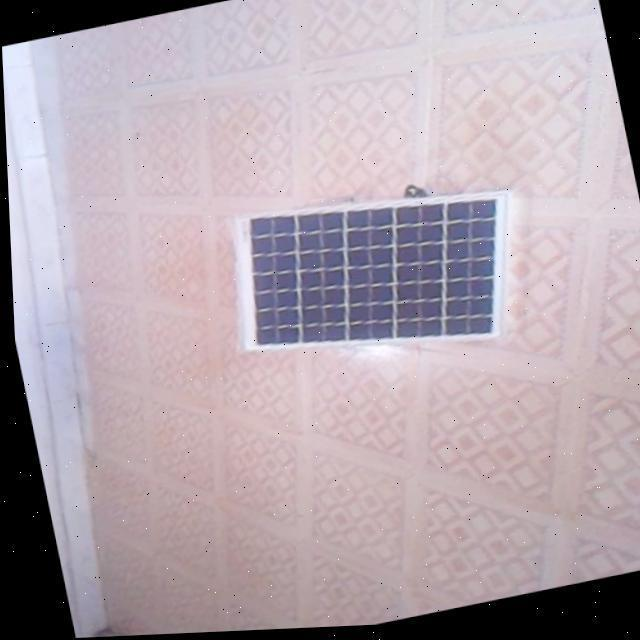Normal Solar Panel: (220, 174, 526, 384)
